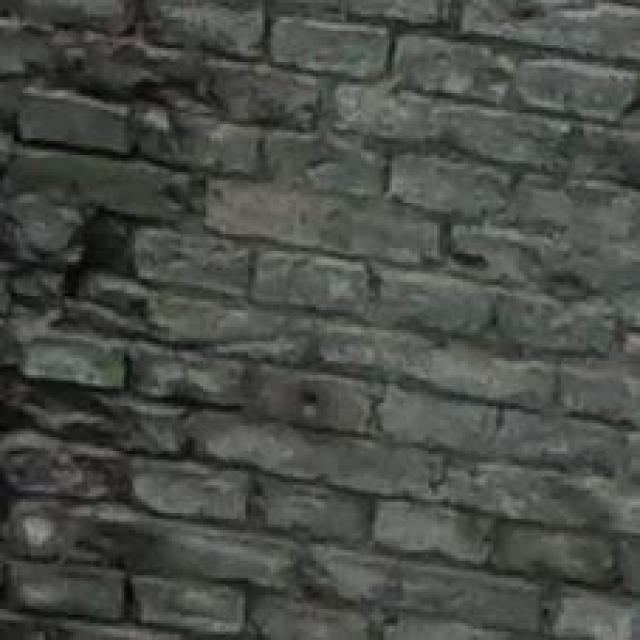Crack: (0, 0, 257, 640)
